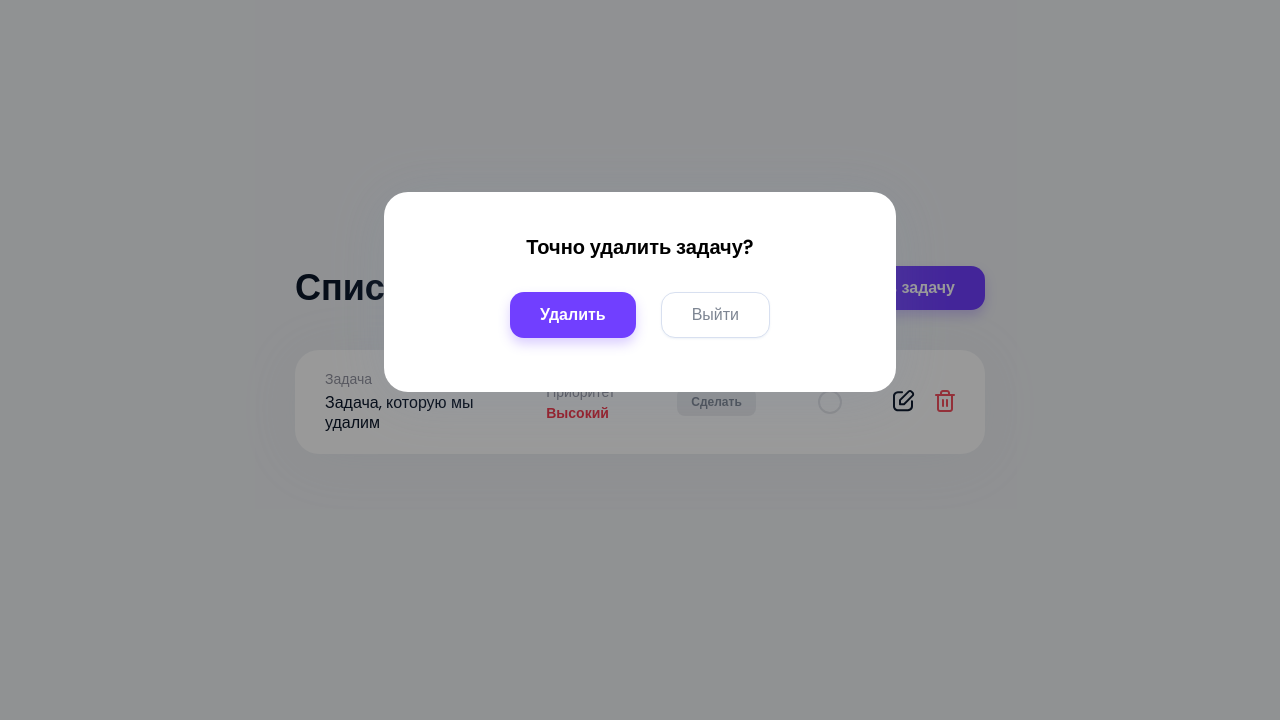
Test: Тесты функционала самого списка задач › При подтверждении удаления в модалке задача должна полностью исчезнуть из списка
Click the button "Удалить". click: (573, 315)
box: [510,292,636,338]
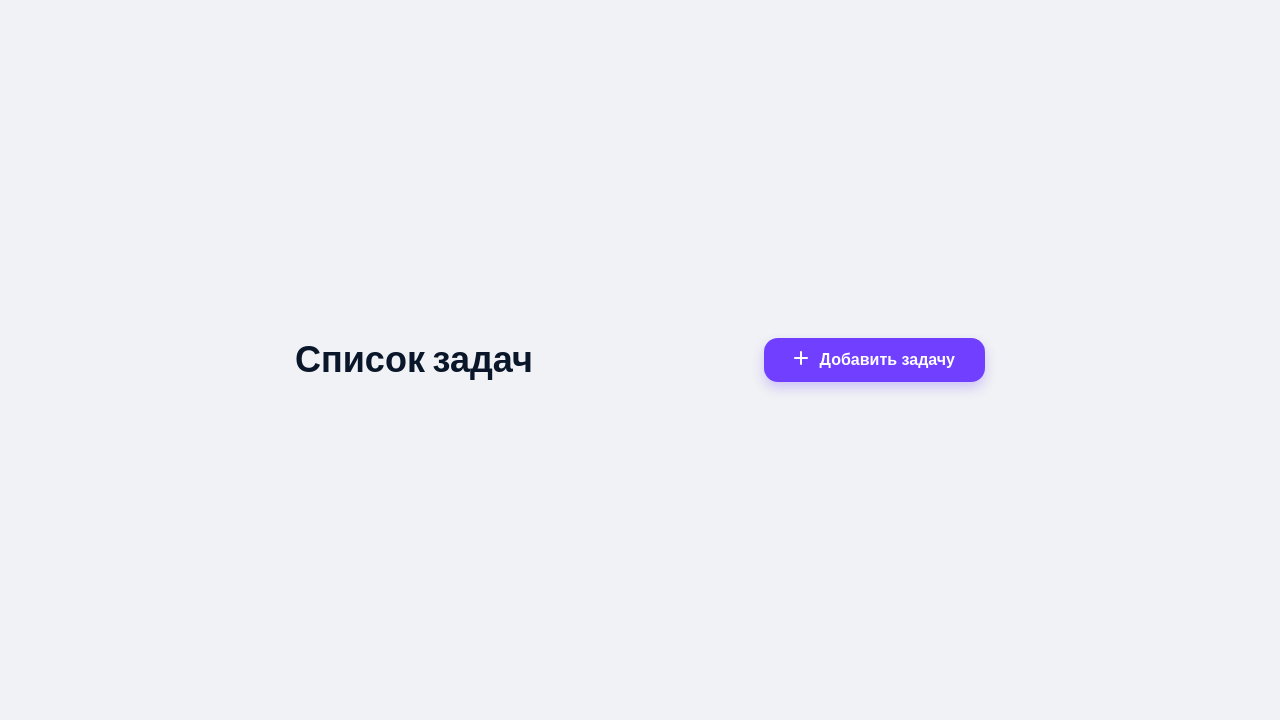
Expected: the text "Задача, которую мы удалим" is gone
